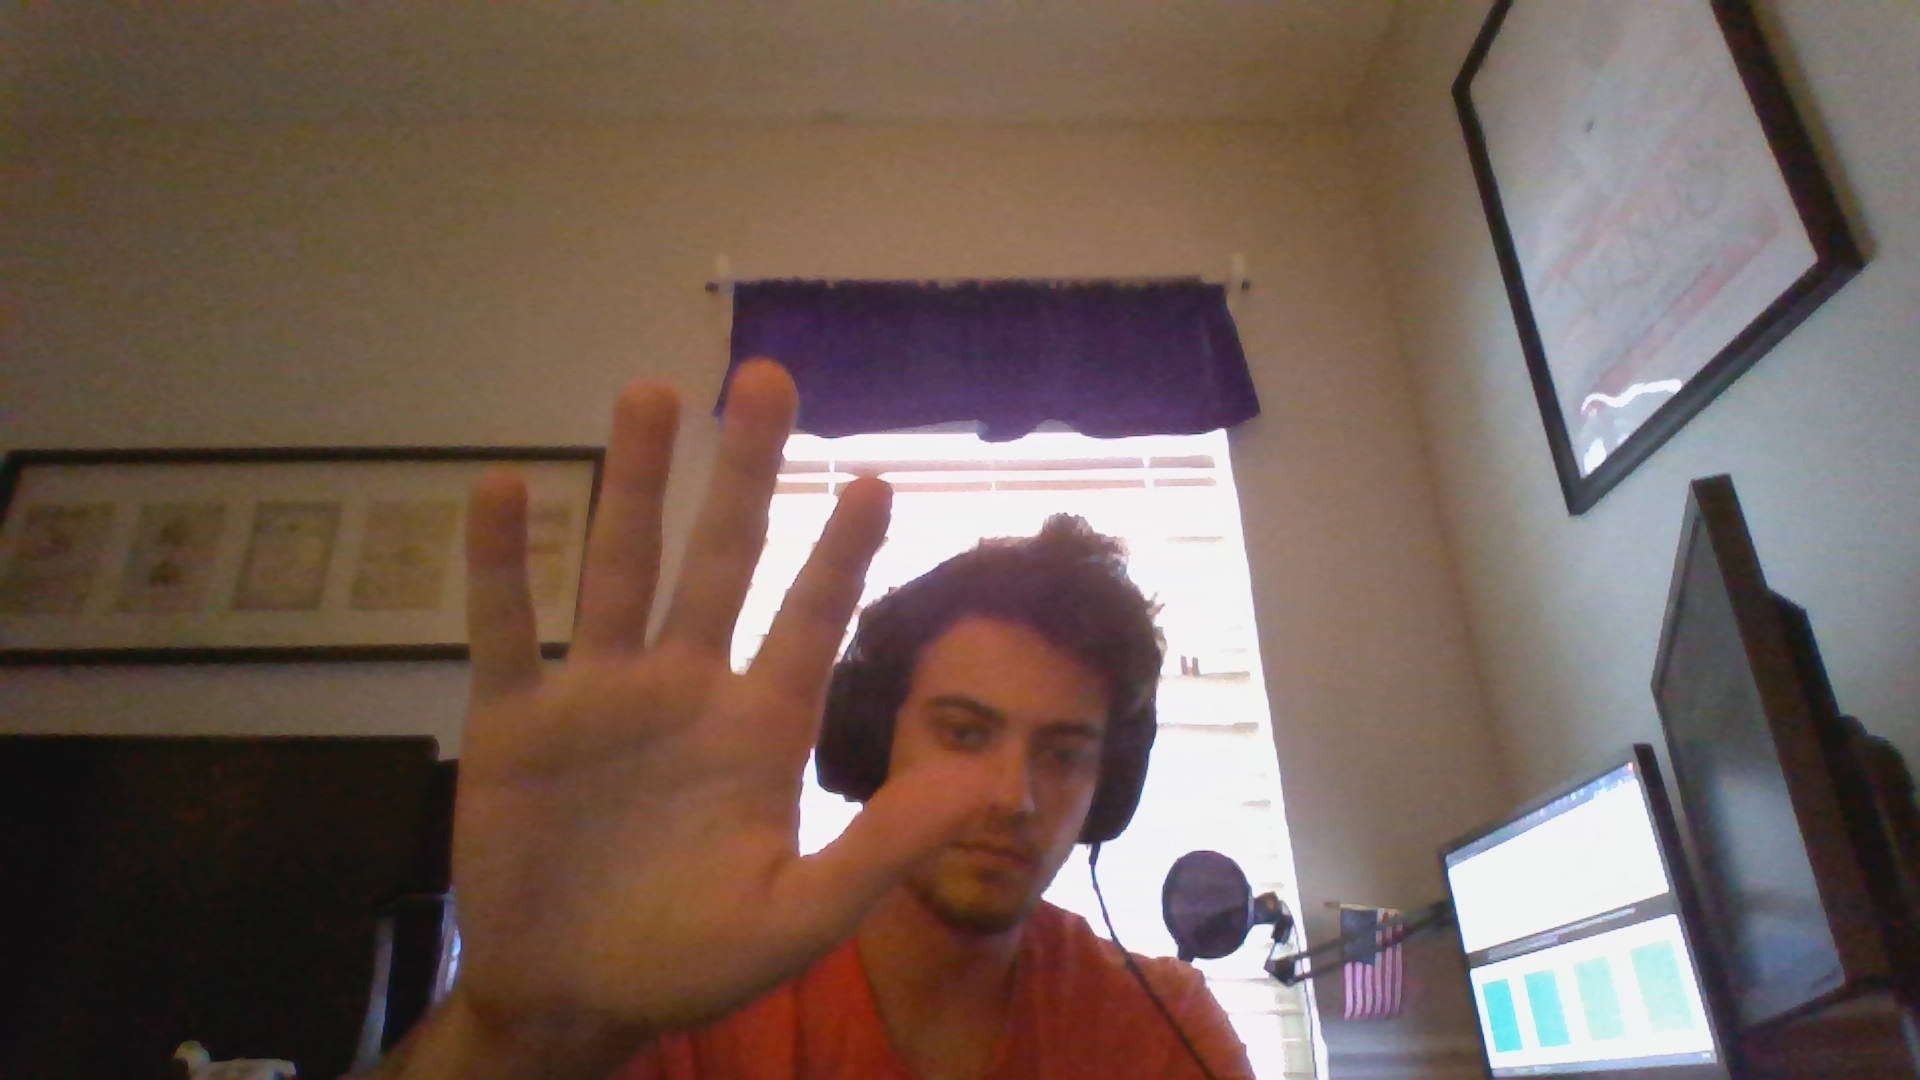Right Palm Up: (431, 353, 1000, 1031)
